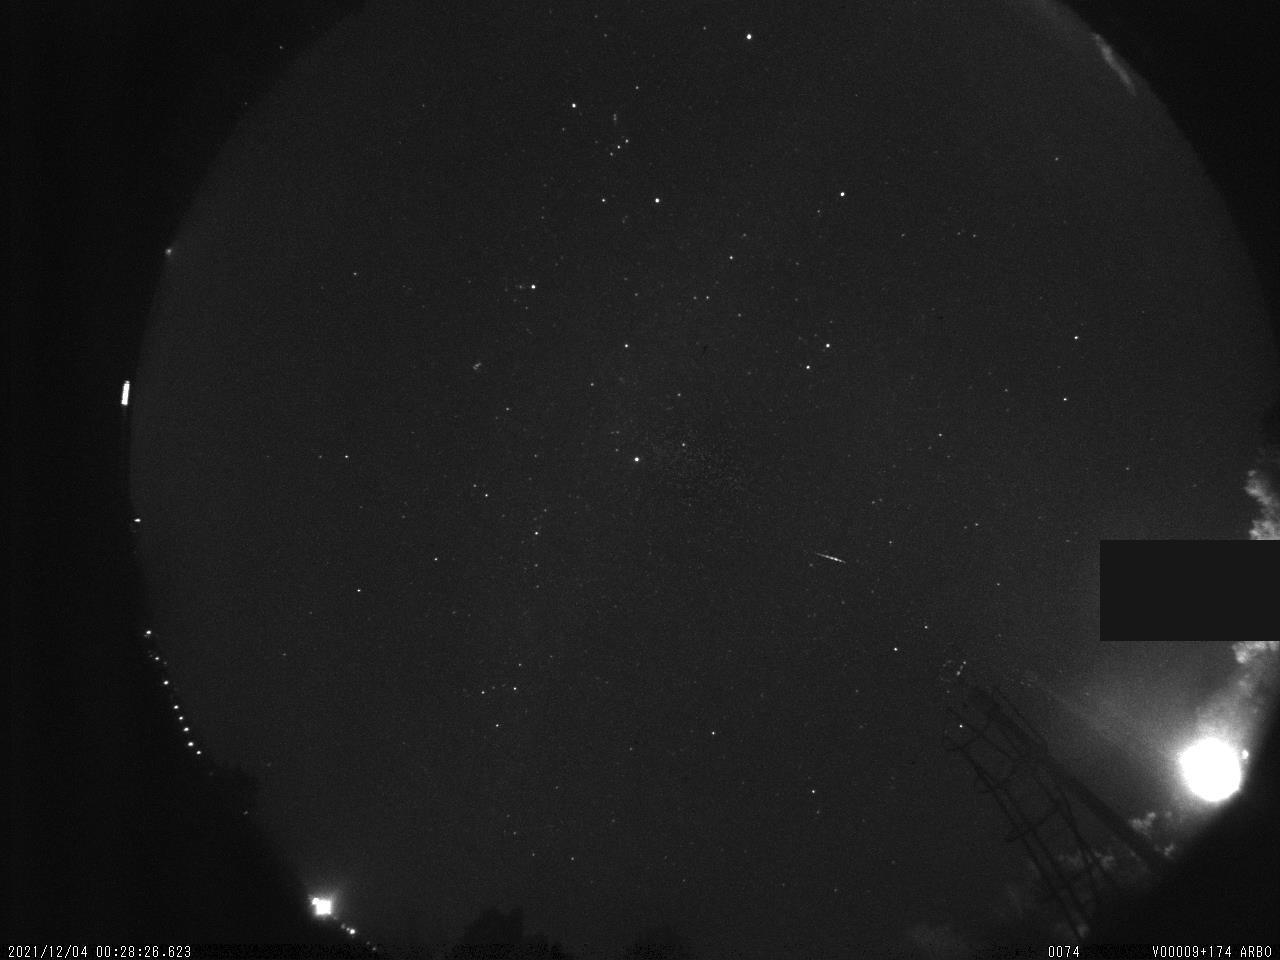meteor: (784, 537, 866, 576)
